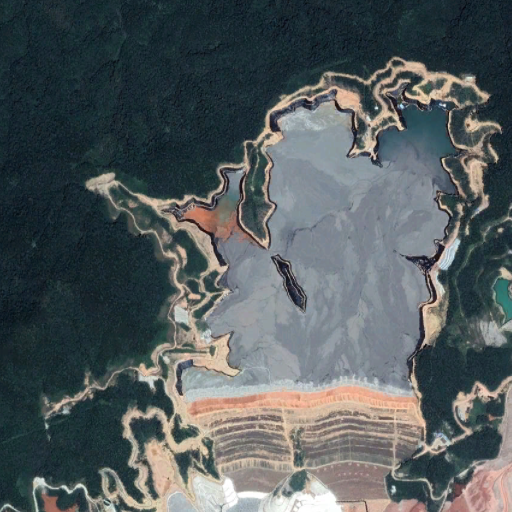tp: (163, 78, 470, 500)
